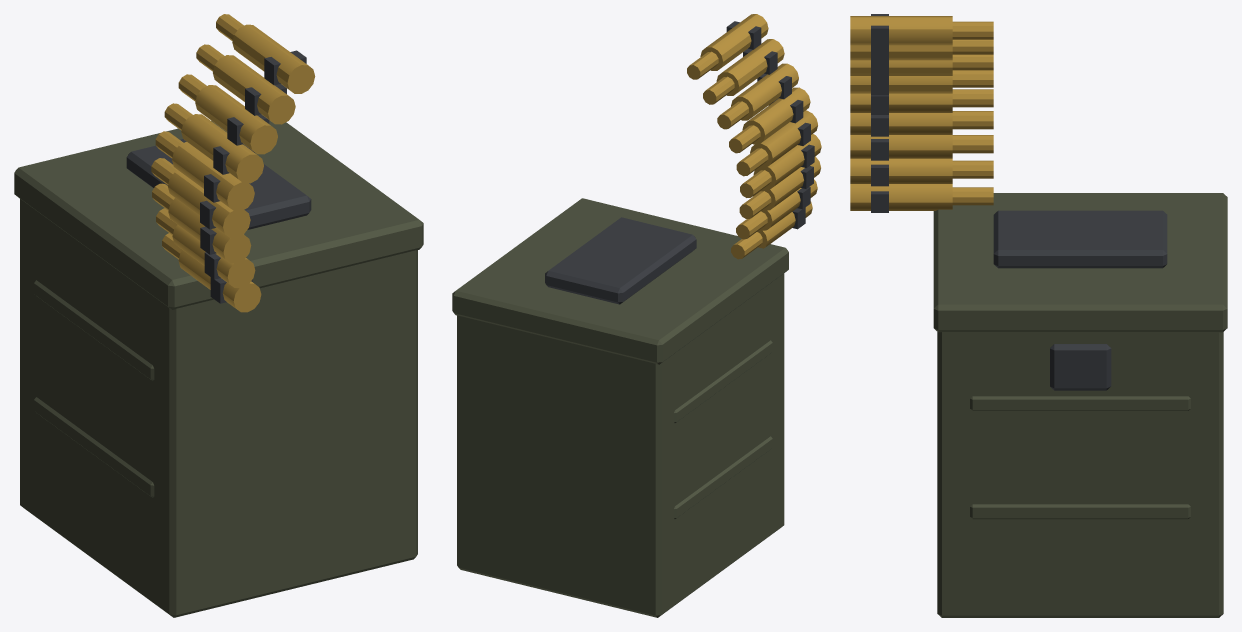
File: mod_anvil_box_150.glb
3 views of the same model, side by side, from view 1: azimuth 30°, elevation 25°; view 2: azimuth 150°, elevation 25°; view 3: azimuth 270°, elevation 25° (orthographic). The views are drawn at different scales.
Parts seen in each view (by area): view 1: AmmoBox, AmmoBoxBelt; view 2: AmmoBox, AmmoBoxBelt; view 3: AmmoBox, AmmoBoxBelt.
Part boxes in pixels (x1,y1,x2,y2): AmmoBox: (14,120,423,617); AmmoBoxBelt: (151,14,315,312); AmmoBox: (452,198,788,617); AmmoBoxBelt: (687,14,821,259); AmmoBox: (933,193,1227,617); AmmoBoxBelt: (850,14,993,212).
Size of the model in its own units: 0.1095 by 0.2338 by 0.1475.
